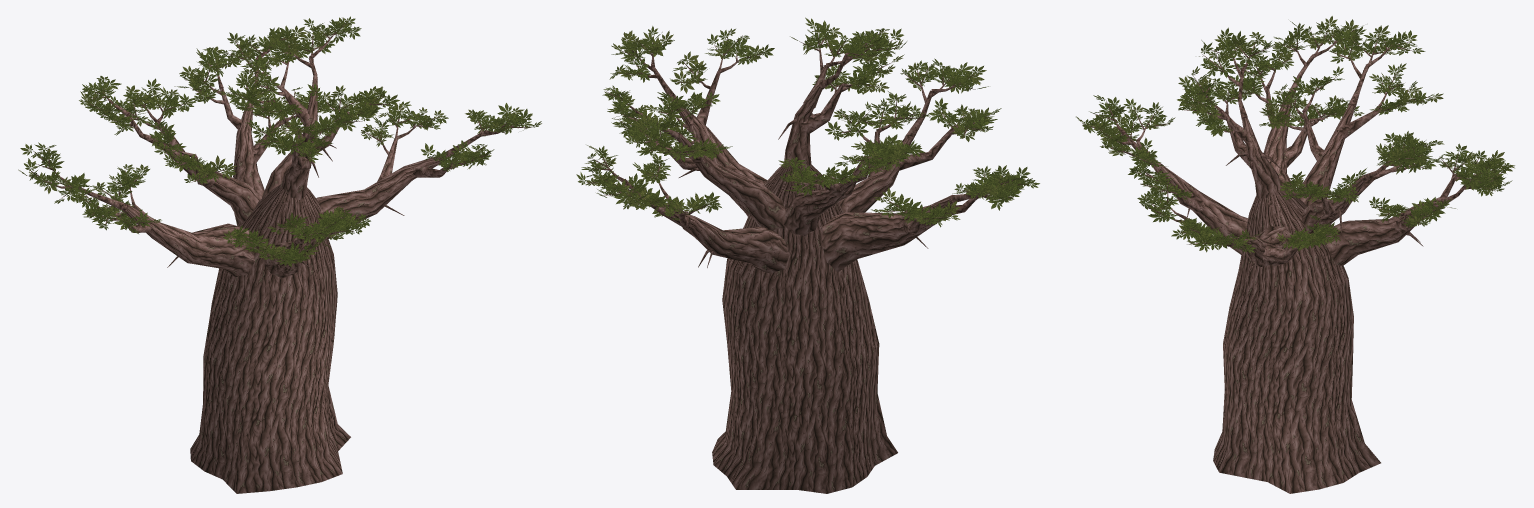
The model's file is Baoba_Africano.glb.
The picture shows the model from 3 angles, left to right: view 1: azimuth 30°, elevation 25°; view 2: azimuth 150°, elevation 25°; view 3: azimuth 270°, elevation 25°; orthographic projection. The views are drawn at different scales.
Visible parts, largest first — view 1: Tronco, Folhas palmadas, Bracos principais, Ramos bifurcados, Ponteiras, Ramos finos; view 2: Tronco, Folhas palmadas, Bracos principais, Ramos bifurcados, Ponteiras, Ramos finos; view 3: Tronco, Folhas palmadas, Bracos principais, Ramos bifurcados, Ponteiras, Ramos finos.
Part boxes in pixels (<box>): Tronco: <box>190,184,350,493</box>; Folhas palmadas: <box>18,16,541,266</box>; Bracos principais: <box>123,91,440,278</box>; Ramos bifurcados: <box>72,57,484,264</box>; Ponteiras: <box>27,21,531,261</box>; Ramos finos: <box>50,34,509,259</box>; Tronco: <box>712,163,897,493</box>; Folhas palmadas: <box>576,17,1039,227</box>; Bracos principais: <box>660,85,953,273</box>; Ramos bifurcados: <box>626,53,979,236</box>; Ponteiras: <box>586,28,1028,221</box>; Ramos finos: <box>608,48,995,223</box>; Tronco: <box>1213,185,1380,493</box>; Folhas palmadas: <box>1076,16,1514,253</box>; Bracos principais: <box>1161,99,1443,267</box>; Ramos bifurcados: <box>1123,55,1468,261</box>; Ponteiras: <box>1082,27,1504,249</box>; Ramos finos: <box>1114,41,1482,243</box>.
Bounding box in the file's own units: 18.13 × 15.2 × 15.49.
2 materials, 2 textured.
